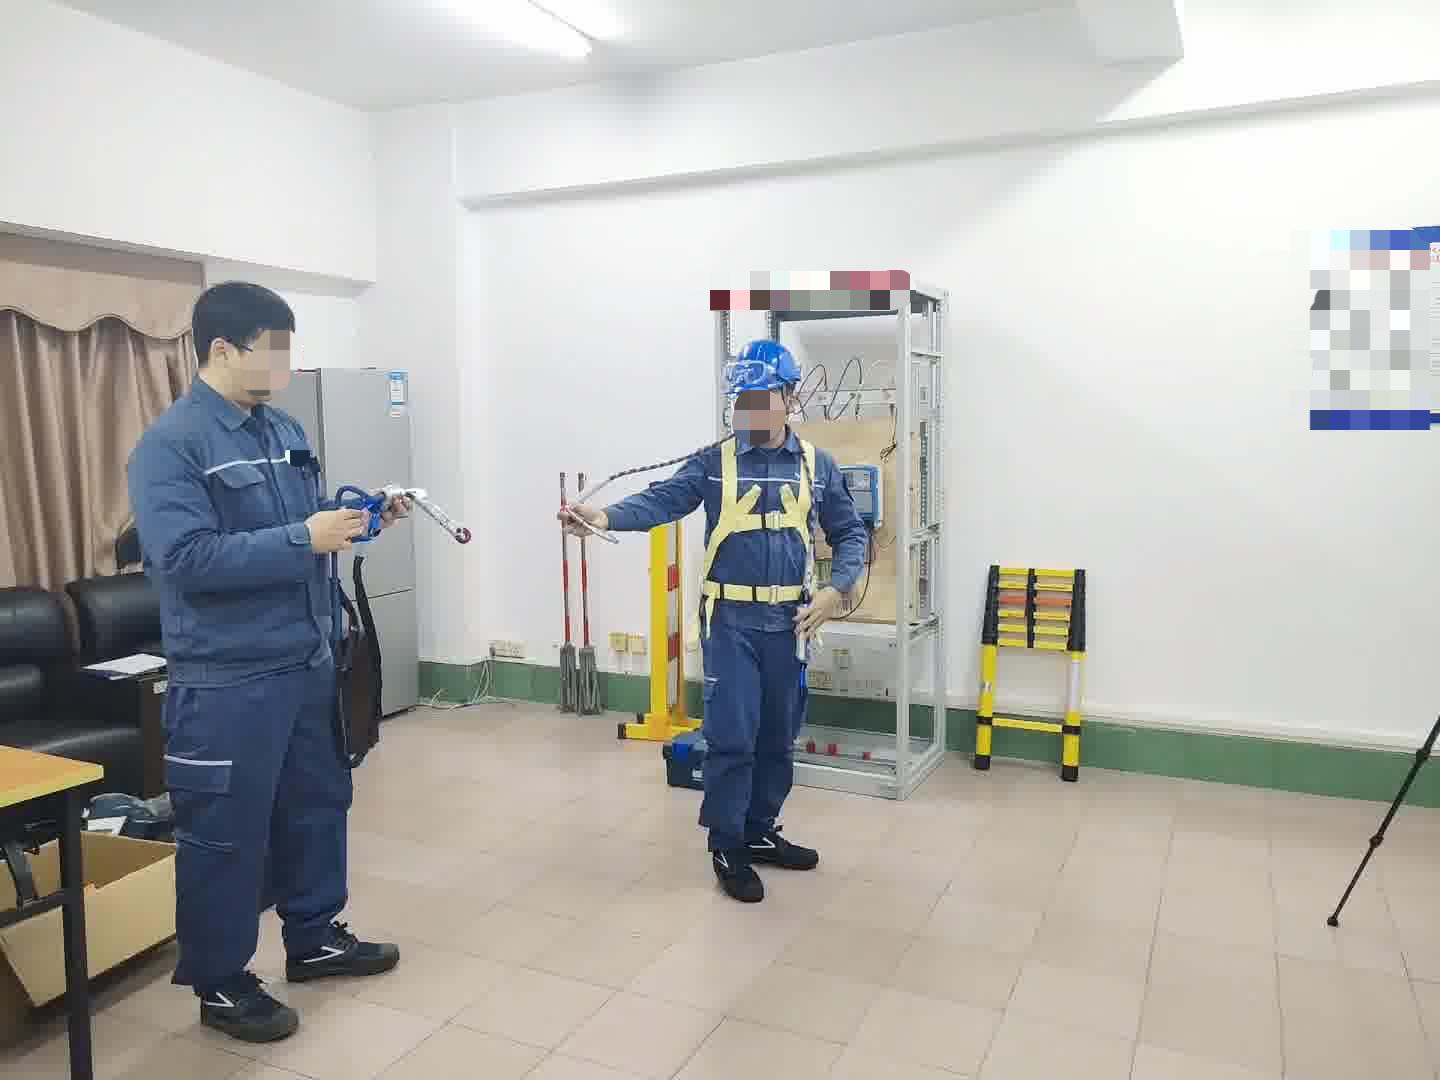halt: (726, 340, 806, 444)
inear: (777, 389, 803, 428)
noear: (202, 331, 255, 382)
unhalt: (190, 282, 303, 405)
